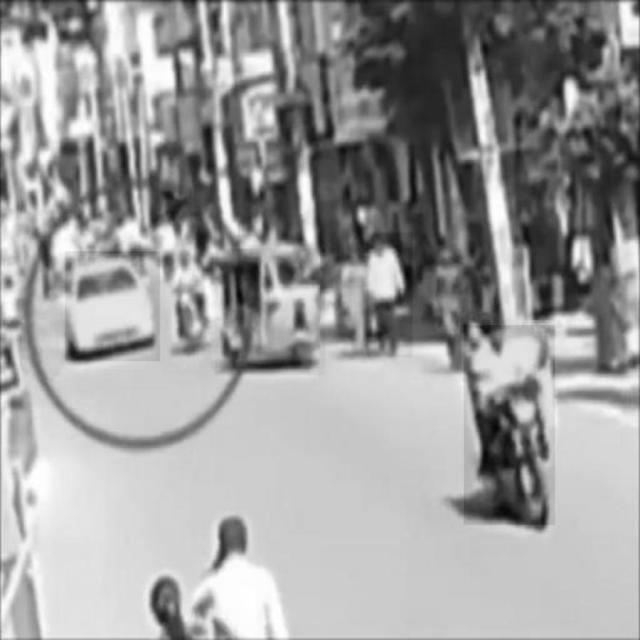person: (367, 233, 413, 357)
vehicle: (464, 325, 555, 525), (215, 249, 325, 375), (65, 252, 161, 362)
